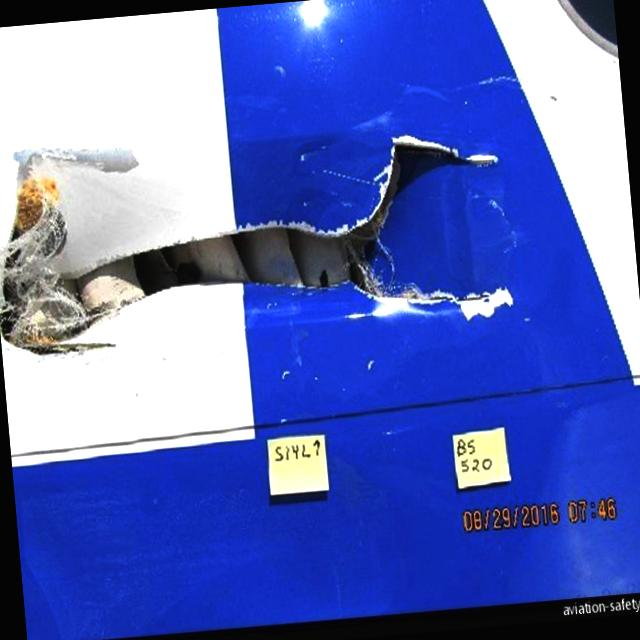crack: (399, 124, 511, 184)
